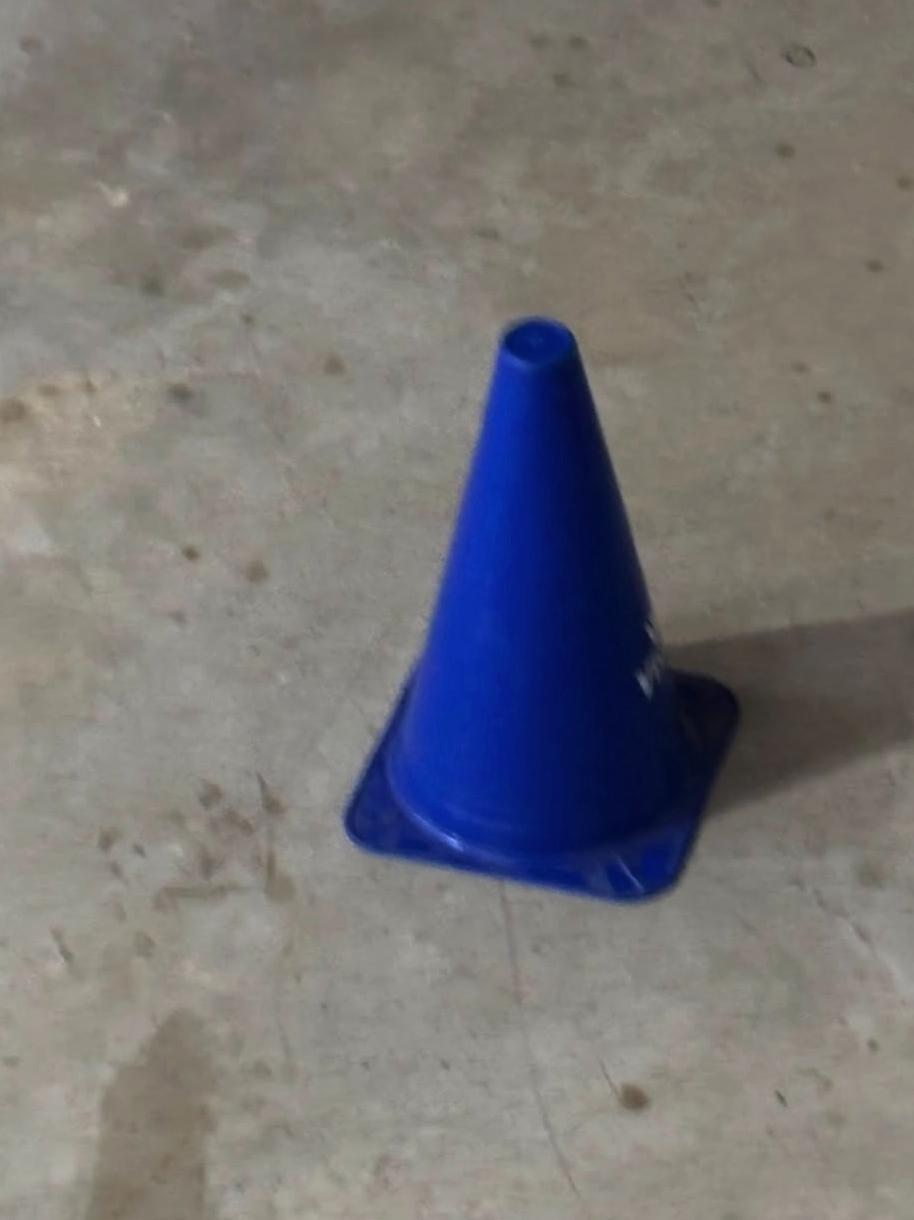0 cone: (345, 318, 737, 899)
